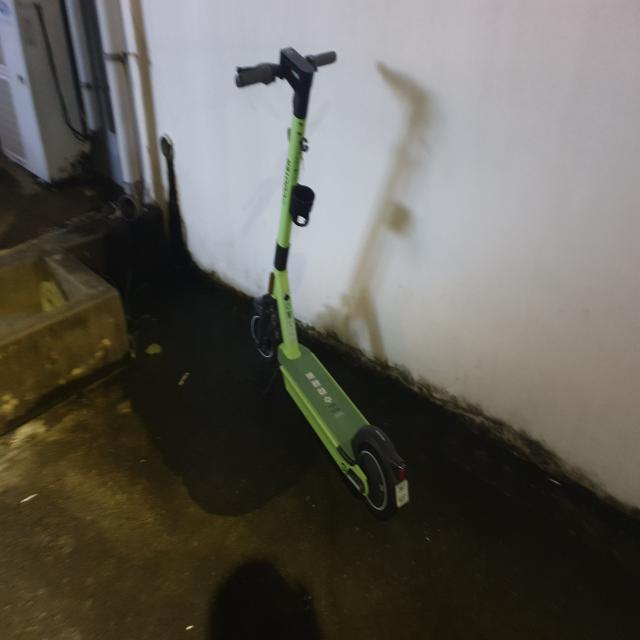bike: (241, 47, 412, 523)
